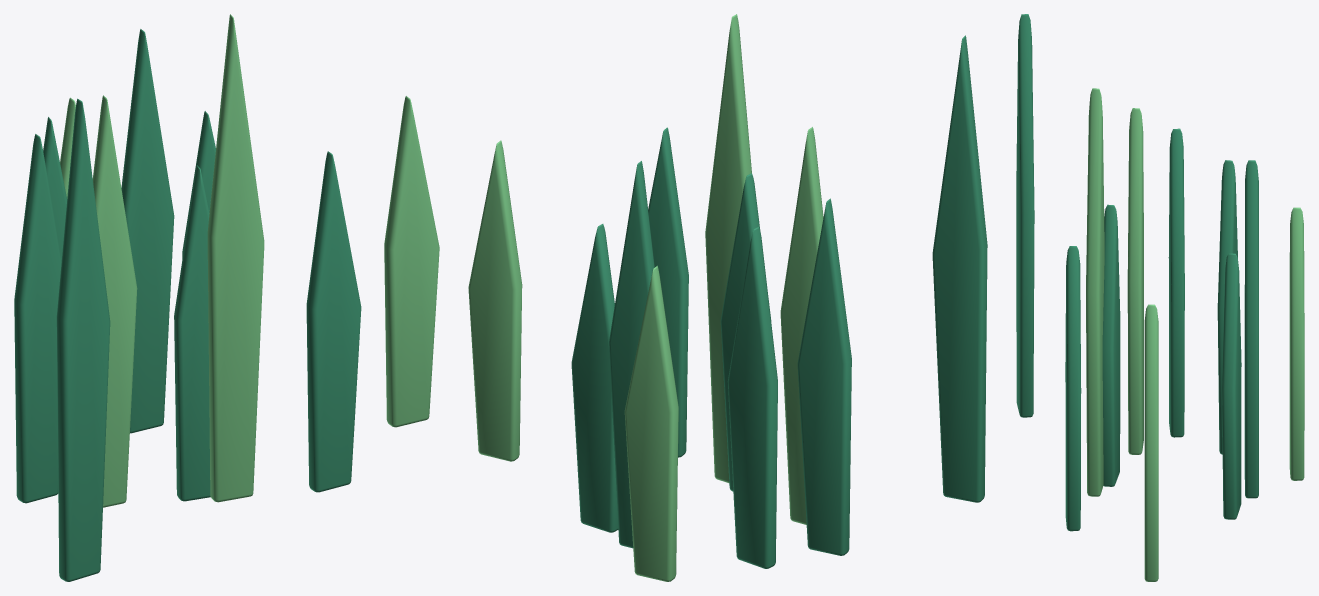
File: r005_reef_seagrass_cards_seagrass_01.glb
3 views of the same model, side by side, from view 1: azimuth 30°, elevation 25°; view 2: azimuth 150°, elevation 25°; view 3: azimuth 270°, elevation 25° (orthographic). The views are drawn at different scales.
Parts seen in each view (by area): view 1: r005_reef_seagrass_cards_seagrass_01.001; view 2: r005_reef_seagrass_cards_seagrass_01.001; view 3: r005_reef_seagrass_cards_seagrass_01.001.
Part boxes in pixels (box(x1,y1,x2,y2)): r005_reef_seagrass_cards_seagrass_01.001: box(14, 14, 439, 581); r005_reef_seagrass_cards_seagrass_01.001: box(468, 14, 987, 581); r005_reef_seagrass_cards_seagrass_01.001: box(1016, 14, 1304, 581).
Size of the model in its own units: 1.71 by 1.74 by 1.13.
